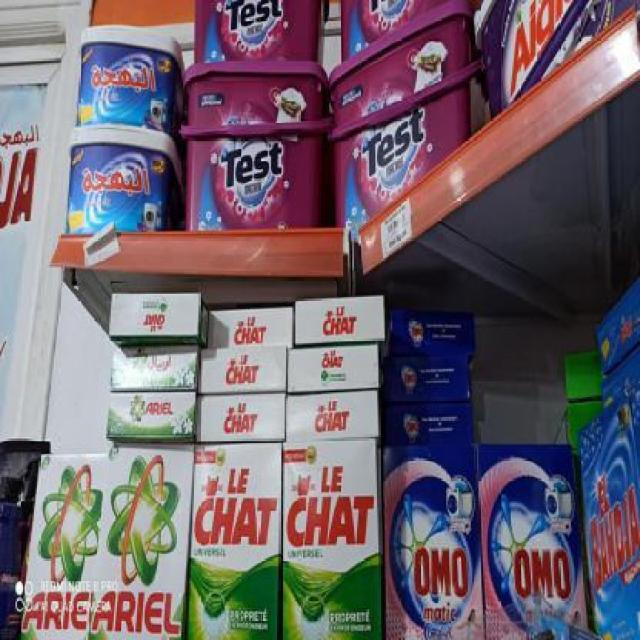Detergent: (87, 441, 185, 639), (17, 447, 92, 639), (108, 332, 200, 394), (112, 386, 198, 443)
